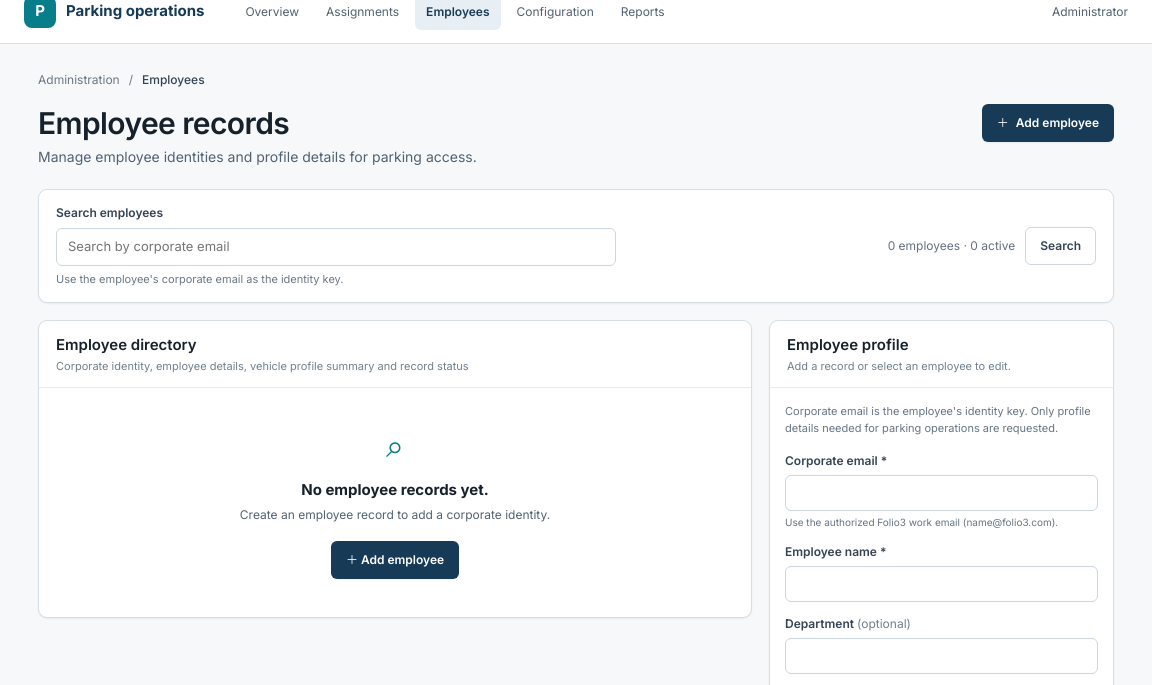
Test: [AC-8] validates corporate identity and confirms a created employee profile
Type "jordan@gmail.com" into the field labelled "Corporate email *" at (942, 492), box [785,474,1098,510]
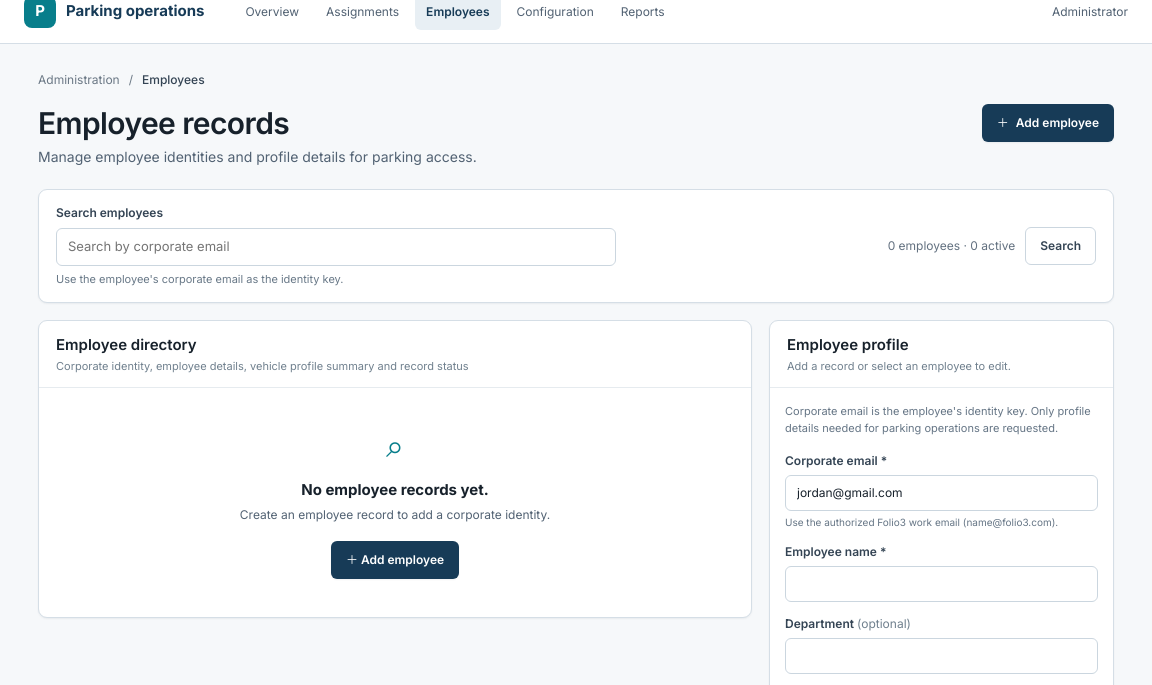
Type "Jordan Lee" into the field labelled "Employee name *" at (942, 584), box [785,566,1098,602]
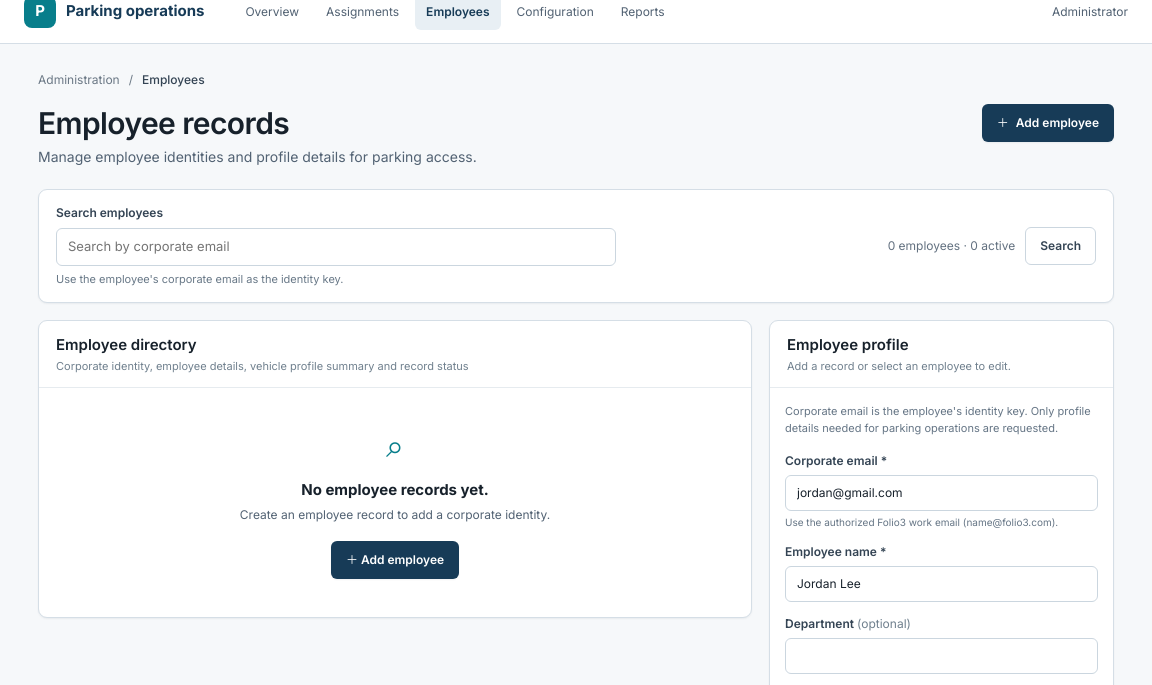
Type "Facilities" into the field labelled "Department (optional)" at (942, 656), box [785,638,1098,674]
(page scrolled)
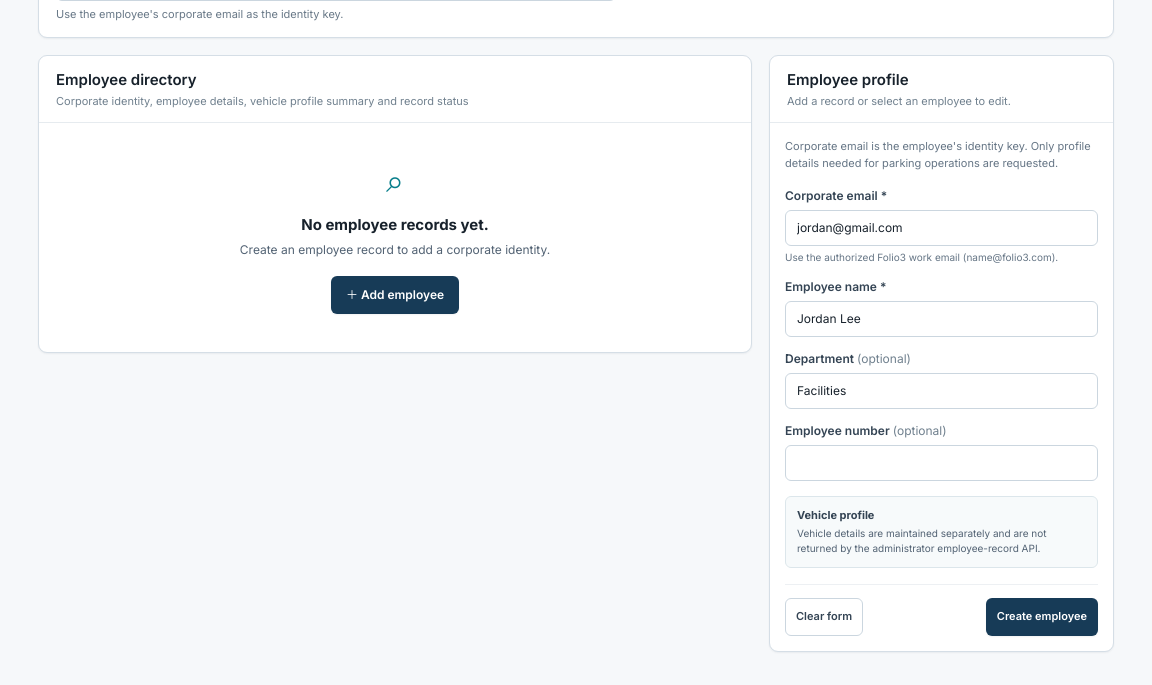
Click the button "Create employee" at (1042, 616), box [986,598,1098,636]
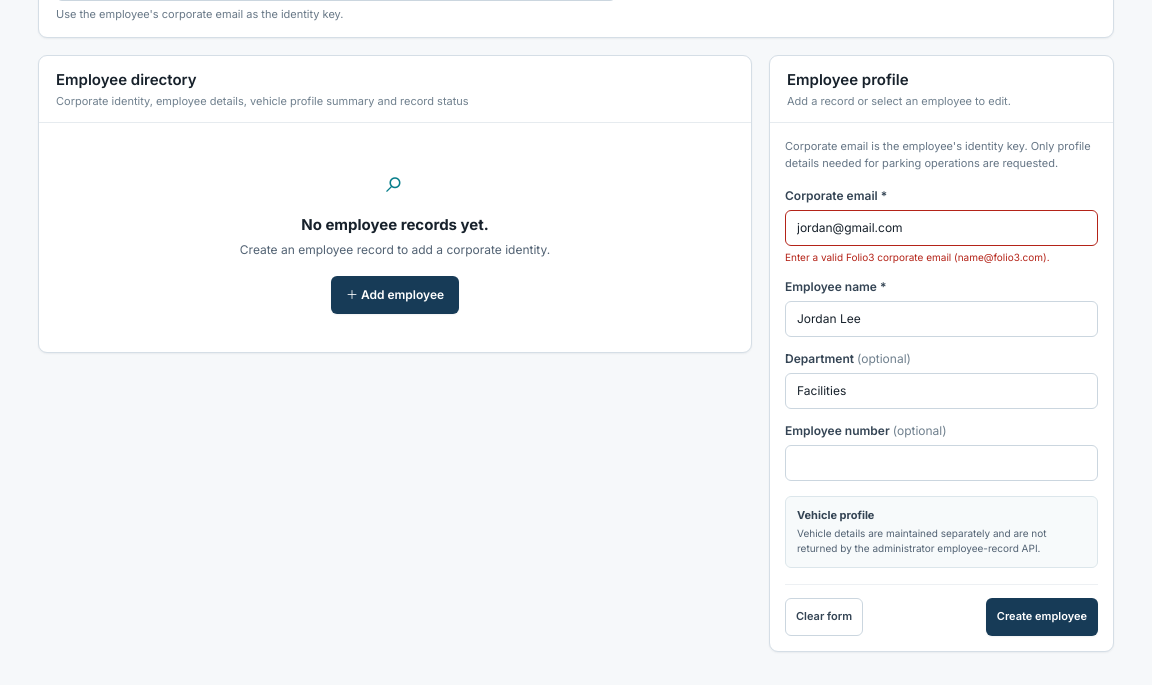
Now the text "Enter a valid Folio3 corporate email (name@folio3.com)." is shown, box [785,250,1050,262]
Replace the text in the field labelled "Corporate email *" with "jordan.lee@folio3.com" at (942, 228), box [785,210,1098,246]
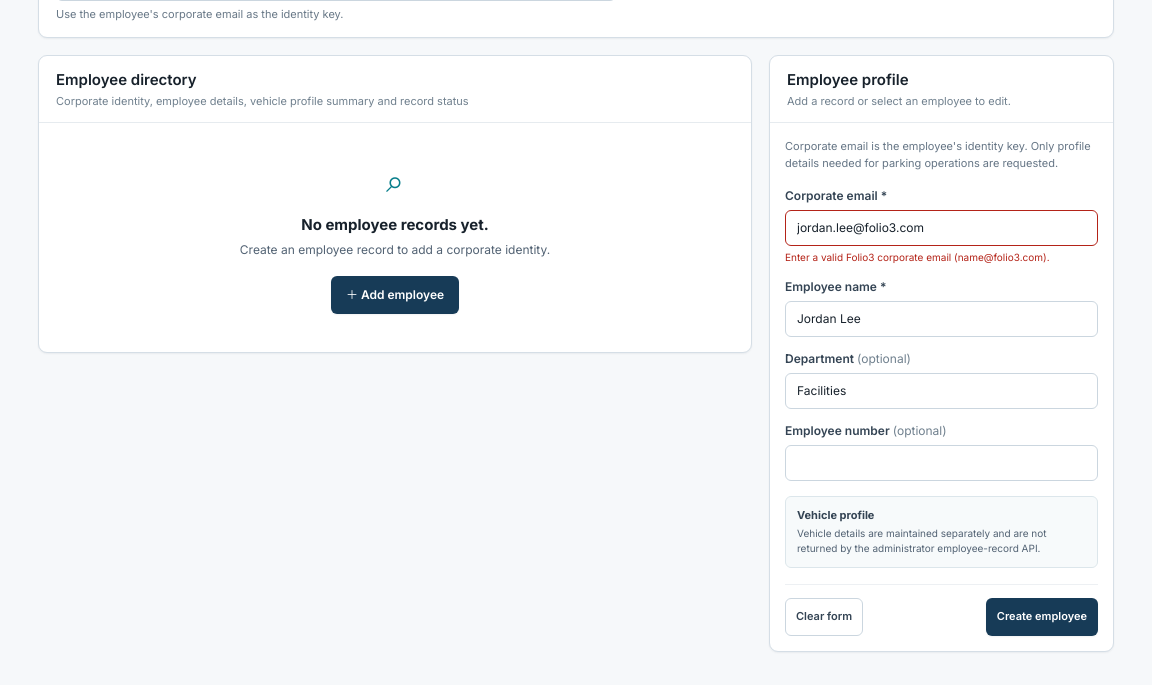
Click the button "Create employee" at (1042, 616), box [986,598,1098,636]
(page scrolled)
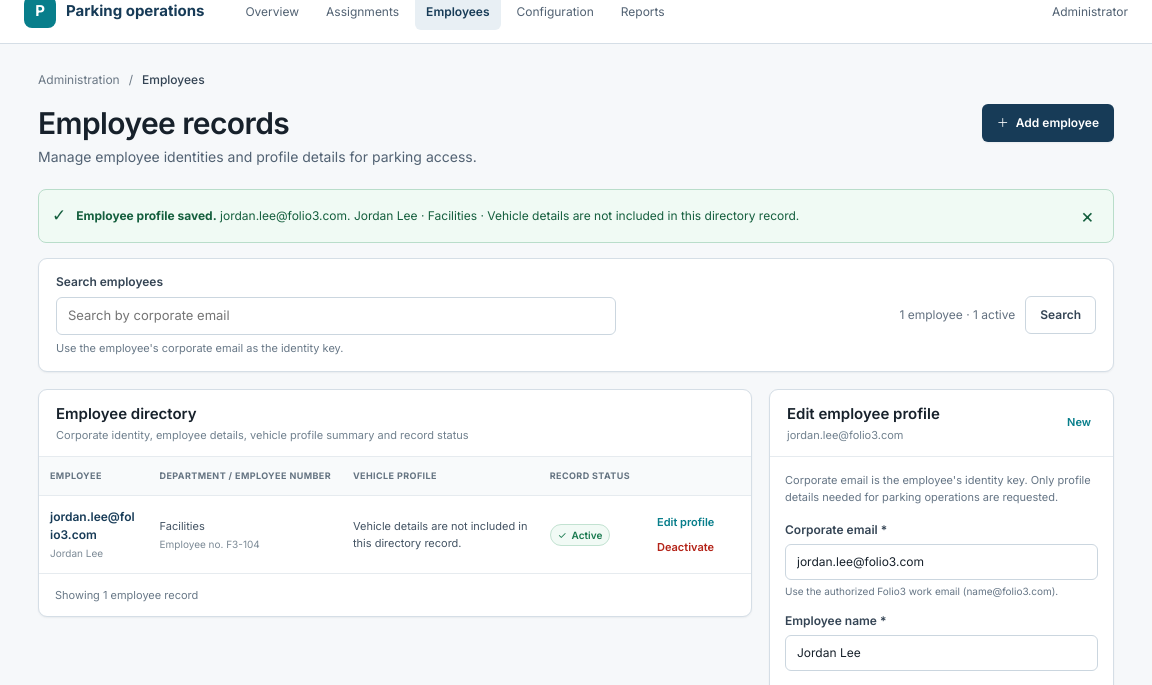
Now the text "Employee profile saved." shows "jordan.lee@folio3.com", box [220,208,799,223]
Now the text "Employee profile saved." shows "Jordan Lee · Facilities", box [220,208,799,223]
